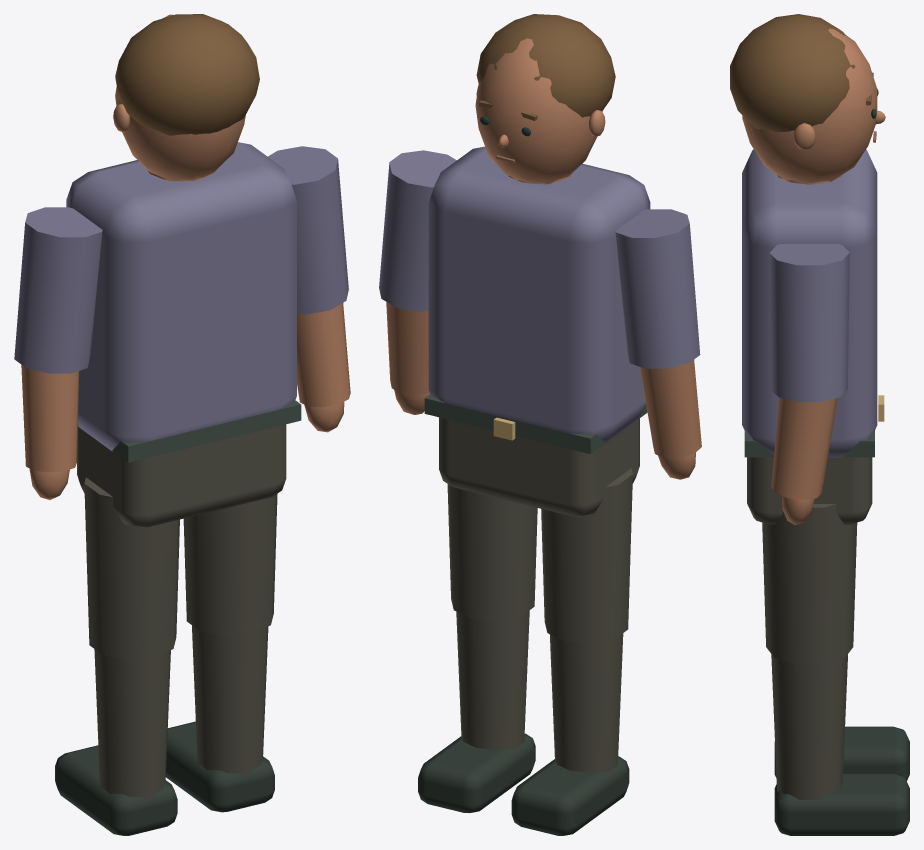
File: scout-06.glb
3 views of the same model, side by side, from view 1: azimuth 30°, elevation 25°; view 2: azimuth 150°, elevation 25°; view 3: azimuth 270°, elevation 25° (orthographic). The views are drawn at different scales.
Parts seen in each view (by area): view 1: Scout character 6, left-upper-arm, right-upper-arm; view 2: Scout character 6, left-upper-arm, right-upper-arm; view 3: Scout character 6, right-upper-arm.
Boxes of the visible parts, x1=… form: Scout character 6: x1=55, y1=14, x2=301, y2=835; left-upper-arm: x1=14, y1=207, x2=102, y2=499; right-upper-arm: x1=268, y1=146, x2=350, y2=432; Scout character 6: x1=418, y1=14, x2=650, y2=835; left-upper-arm: x1=615, y1=209, x2=701, y2=479; right-upper-arm: x1=379, y1=150, x2=456, y2=414; Scout character 6: x1=730, y1=14, x2=909, y2=835; right-upper-arm: x1=769, y1=244, x2=849, y2=524.
Bounding box in the file's own units: 0.7284 × 1.72 × 0.359.
